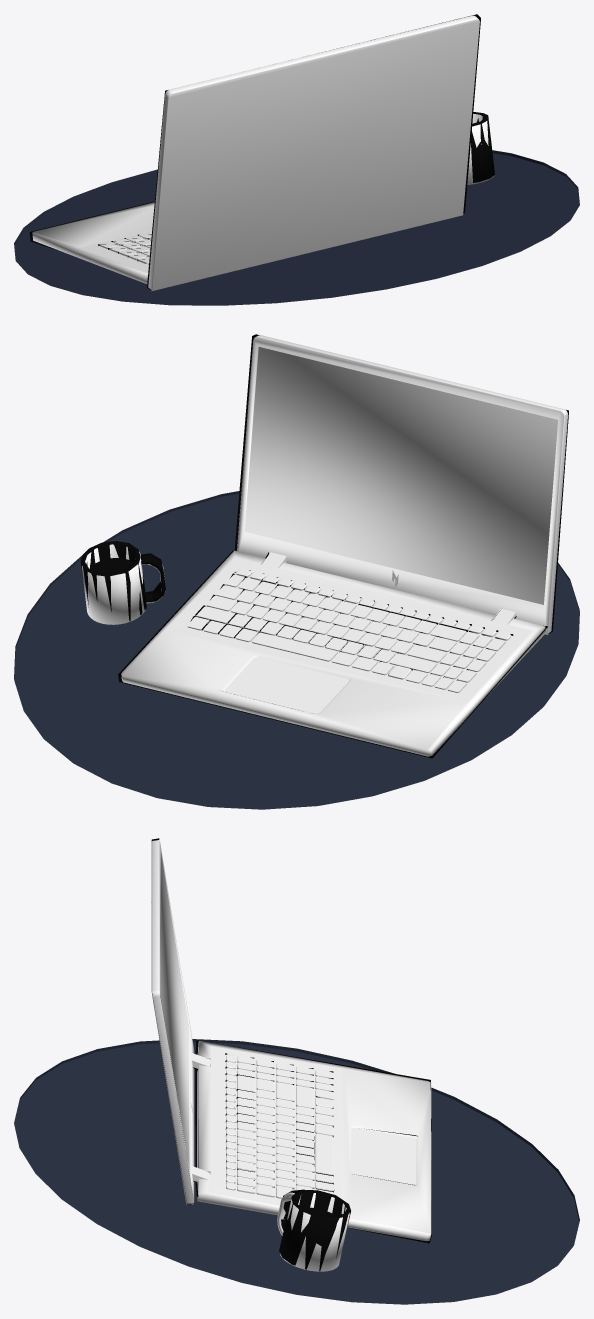
The model's file is Computer.glb.
3 views of the same model, one above another, from view 1: azimuth 30°, elevation 25°; view 2: azimuth 150°, elevation 25°; view 3: azimuth 270°, elevation 25° (orthographic).
Visible parts, largest first — view 1: Laptop, Table, Laptop_Outline, Cup_Outline, Cup; view 2: Laptop, Table, Laptop_Screen, Laptop_Outline, Cup, Cup_Outline; view 3: Table, Laptop, Laptop_Screen, Cup_Outline, Cup, Laptop_Outline.
Part boxes in pixels (x1=…): Laptop: x1=32, y1=15, x2=479, y2=290; Table: x1=14, y1=150, x2=579, y2=305; Laptop_Outline: x1=29, y1=14, x2=480, y2=290; Cup_Outline: x1=471, y1=112, x2=494, y2=182; Cup: x1=467, y1=114, x2=494, y2=184; Laptop: x1=121, y1=335, x2=567, y2=756; Table: x1=14, y1=491, x2=579, y2=809; Laptop_Screen: x1=244, y1=347, x2=557, y2=604; Laptop_Outline: x1=118, y1=334, x2=568, y2=758; Cup: x1=82, y1=544, x2=165, y2=624; Cup_Outline: x1=80, y1=541, x2=165, y2=621; Table: x1=14, y1=1039, x2=579, y2=1304; Laptop: x1=151, y1=840, x2=431, y2=1241; Laptop_Screen: x1=161, y1=855, x2=189, y2=1169; Cup_Outline: x1=279, y1=1189, x2=350, y2=1271; Cup: x1=277, y1=1192, x2=349, y2=1271; Laptop_Outline: x1=151, y1=838, x2=431, y2=1243.
Bounding box in the file's own units: 4.52 × 2.48 × 4.44.
